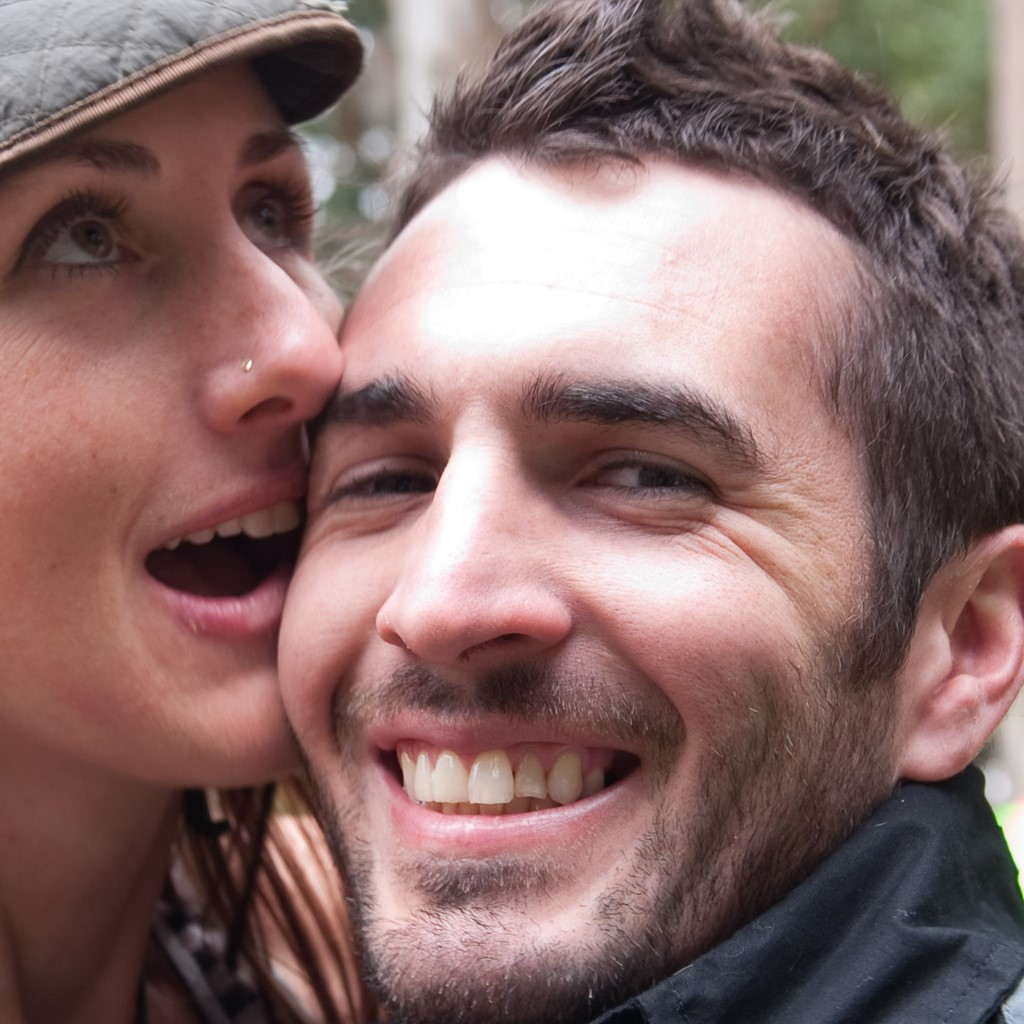sin_mascara: (279, 164, 917, 1013)
